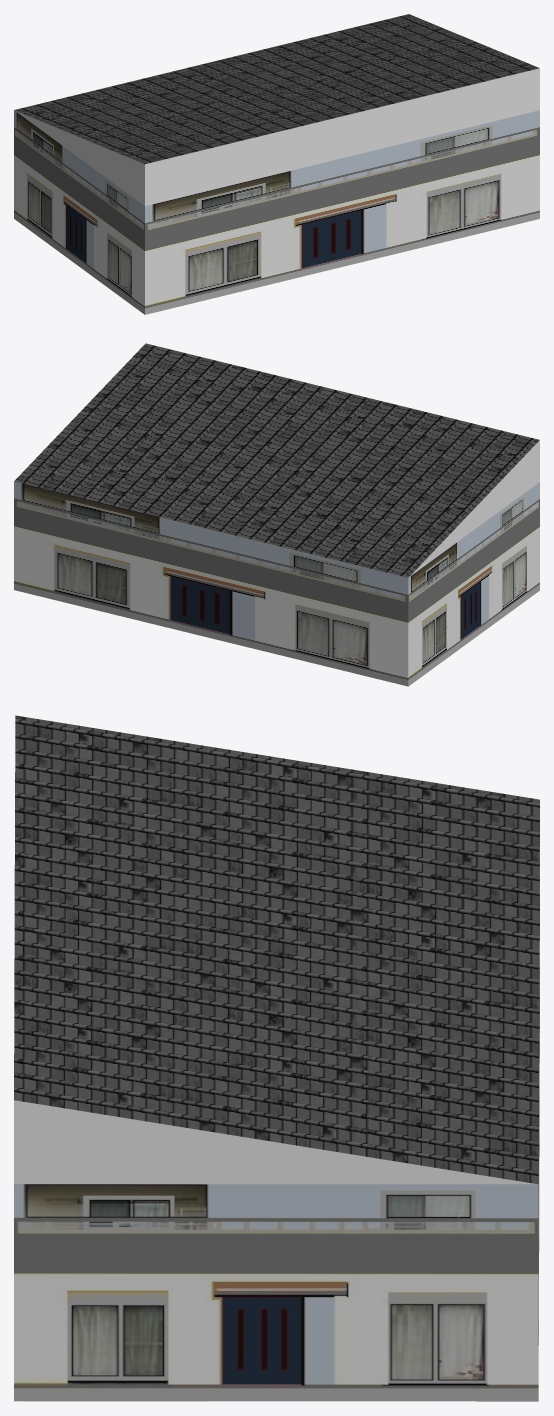
3 renders of one model, top to bottom at view 1: azimuth 30°, elevation 25°; view 2: azimuth 150°, elevation 25°; view 3: azimuth 270°, elevation 25°, orthographic. The views are drawn at different scales.
Parts seen in each view (by area): view 1: CityEngineMaterial_7_m, CityEngineMaterial_8_m, CityEngineMaterial_3_m; view 2: CityEngineMaterial_8_m, CityEngineMaterial_7_m, CityEngineMaterial_3_m; view 3: CityEngineMaterial_8_m, CityEngineMaterial_7_m, CityEngineMaterial_3_m.
Boxes of the visible parts, x1,y1,x2,y2 form: CityEngineMaterial_7_m: (14,110,539,314); CityEngineMaterial_8_m: (14,14,539,164); CityEngineMaterial_3_m: (14,68,539,205); CityEngineMaterial_8_m: (14,343,539,577); CityEngineMaterial_7_m: (14,481,539,686); CityEngineMaterial_3_m: (409,440,539,576); CityEngineMaterial_8_m: (14,715,539,1184); CityEngineMaterial_7_m: (14,847,539,1401); CityEngineMaterial_3_m: (14,1100,536,1184).
Size of the model in its own units: 26.13 by 9.52 by 15.09.
